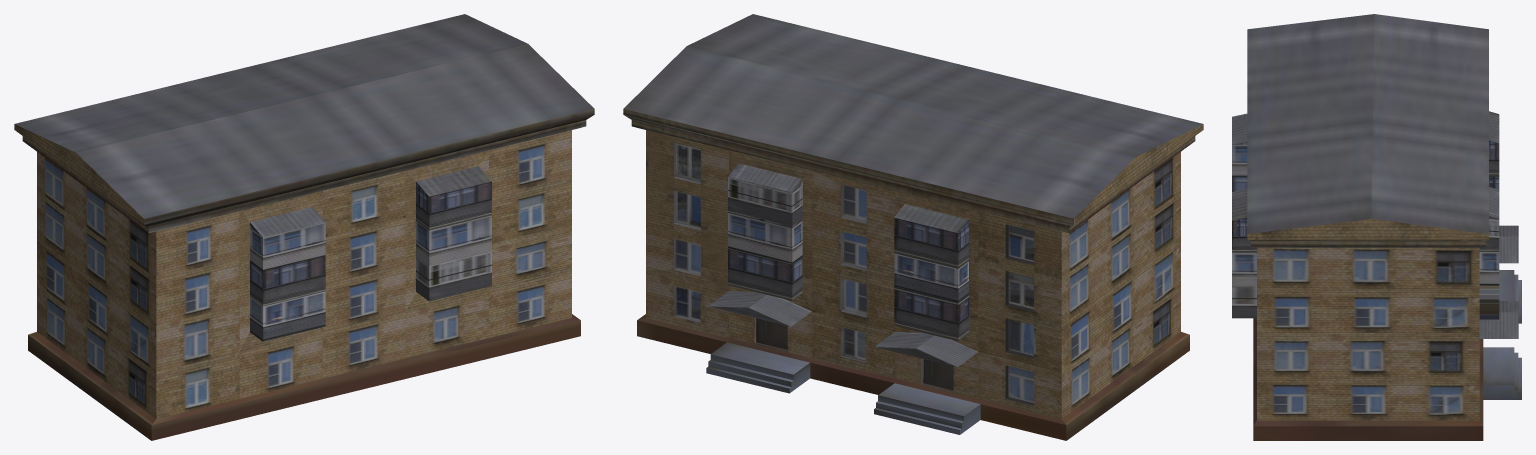
File: soviet_house_lowpoly.glb
The picture shows the model from 3 angles, left to right: view 1: azimuth 30°, elevation 25°; view 2: azimuth 150°, elevation 25°; view 3: azimuth 270°, elevation 25°; orthographic projection. The views are drawn at different scales.
Visible parts, largest first — view 1: Cube; view 2: Cube; view 3: Cube.
Boxes of the visible parts, x1,y1,x2,y2 form: Cube: [14, 14, 594, 440]; Cube: [623, 14, 1203, 440]; Cube: [1232, 14, 1521, 440].
Size of the model in its own units: 435 by 225 by 260.
Materials: 1 (1 with a texture image).
